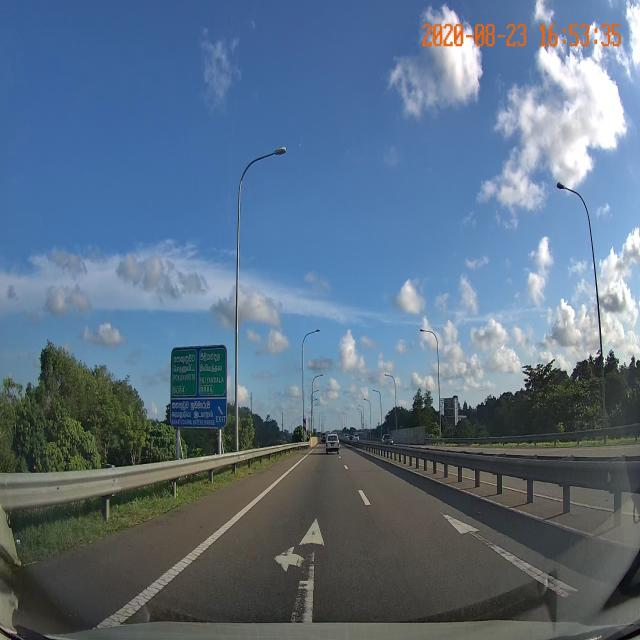Strelka vpered: (439, 512, 578, 599)
Strelka vpered - vlevo: (273, 521, 323, 622)
